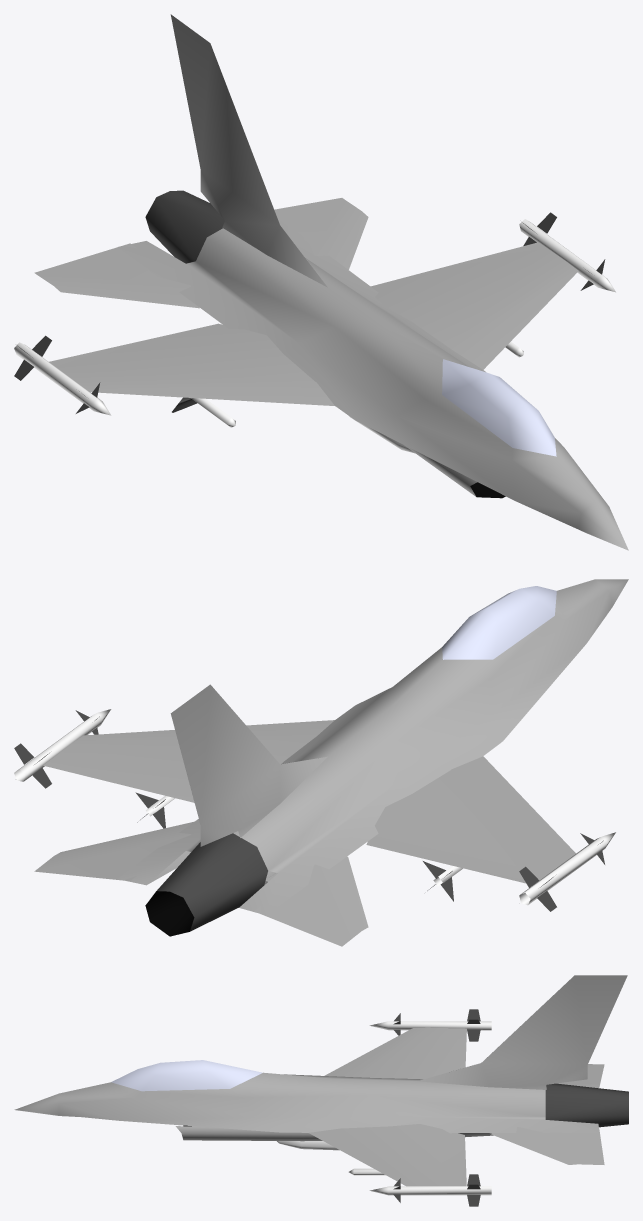
File: f-16_425triangles.obj
The picture shows the model from 3 angles, top to bottom: view 1: azimuth 30°, elevation 25°; view 2: azimuth 150°, elevation 25°; view 3: azimuth 270°, elevation 25°; orthographic projection. The views are drawn at different scales.
Visible parts, largest first — view 1: f16; view 2: f16; view 3: f16.
Part boxes in pixels (left/top/right/bottom): f16: left=14, top=14, right=628, bottom=550; f16: left=14, top=579, right=628, bottom=946; f16: left=14, top=975, right=628, bottom=1206.
Size of the model in its own units: 7.92 by 3.67 by 11.74.
